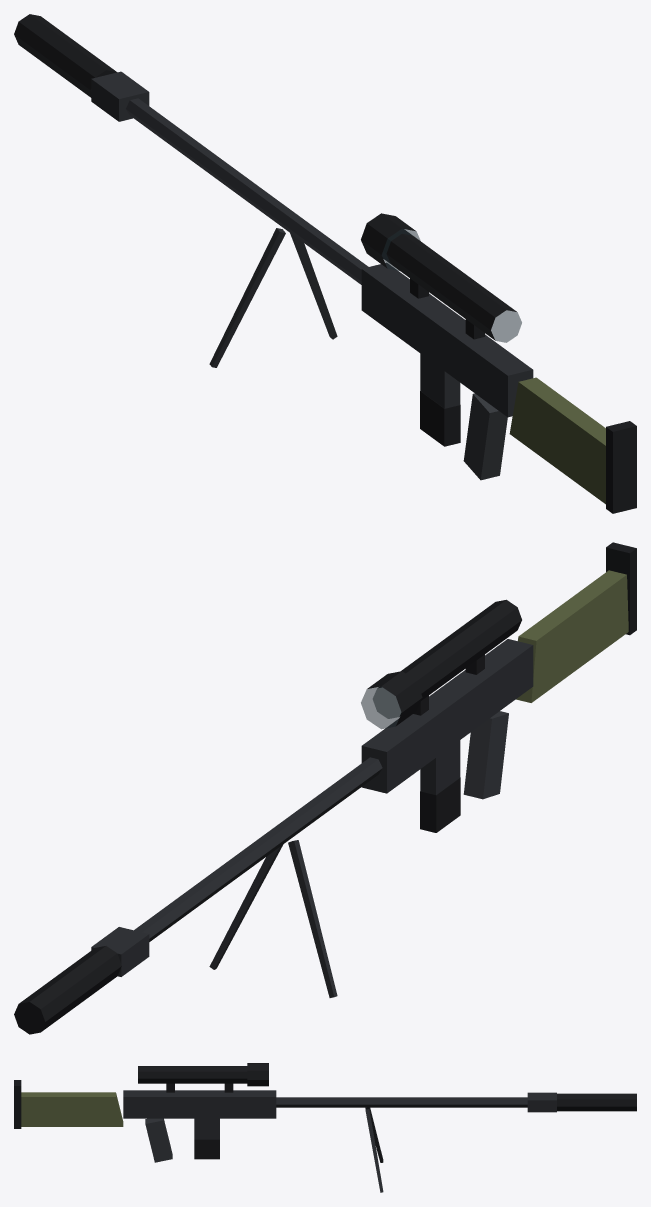
The model's file is w_sniper.glb.
3 renders of one model, top to bottom at view 1: azimuth 30°, elevation 25°; view 2: azimuth 150°, elevation 25°; view 3: azimuth 270°, elevation 25°, orthographic. The views are drawn at different scales.
Visible parts, largest first — view 1: w_sniper, w_sniper_att_suppressor, w_sniper_att_extmag; view 2: w_sniper, w_sniper_att_suppressor, w_sniper_att_extmag; view 3: w_sniper, w_sniper_att_suppressor, w_sniper_att_extmag.
Part boxes in pixels (box(x1,y1,x2,y2)): w_sniper: box(91, 71, 636, 513); w_sniper_att_suppressor: box(14, 14, 117, 97); w_sniper_att_extmag: box(420, 391, 460, 446); w_sniper: box(91, 542, 636, 997); w_sniper_att_suppressor: box(14, 946, 121, 1034); w_sniper_att_extmag: box(420, 777, 460, 832); w_sniper: box(14, 1063, 556, 1192); w_sniper_att_suppressor: box(557, 1093, 636, 1111); w_sniper_att_extmag: box(194, 1139, 219, 1159).
Size of the model in its own units: 0.2084 by 0.3463 by 1.71.
